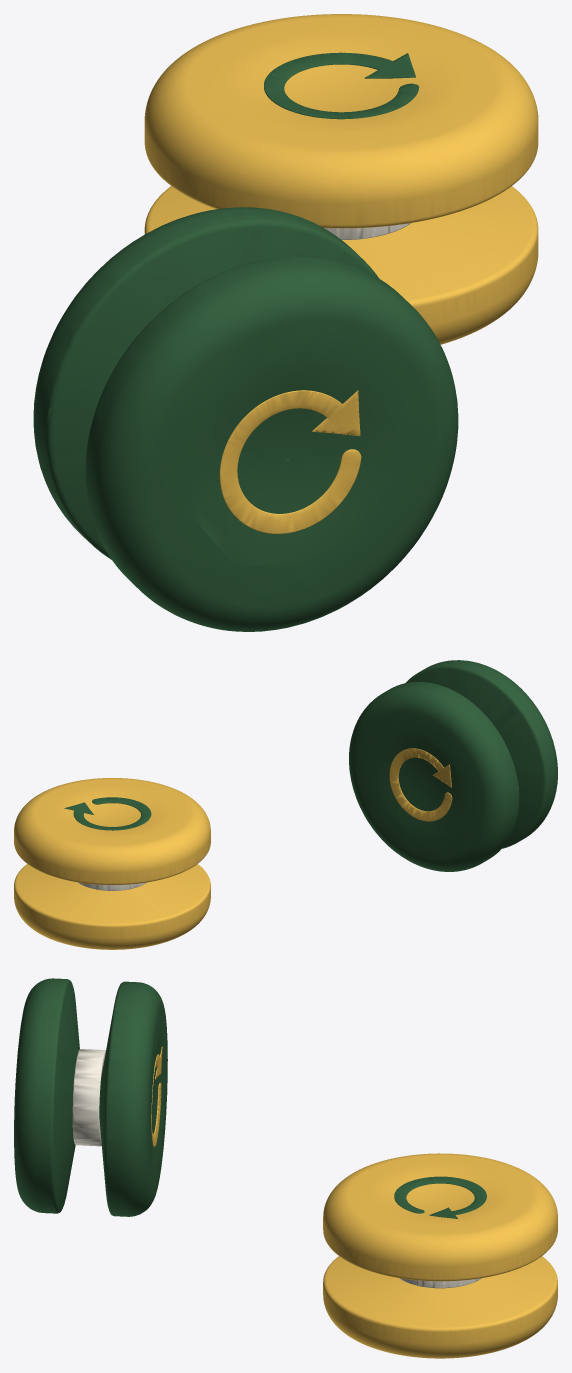
File: pull-to-refresh.glb
3 views of the same model, one above another, from view 1: azimuth 30°, elevation 25°; view 2: azimuth 150°, elevation 25°; view 3: azimuth 270°, elevation 25° (orthographic). The views are drawn at different scales.
Parts seen in each view (by area): view 1: yoyo-body, yoyo2-body, yoyo-icon0, yoyo2-icon0, yoyo-string; view 2: yoyo-body, yoyo2-body, yoyo-icon0, yoyo2-icon0; view 3: yoyo2-body, yoyo-body, yoyo-string, yoyo2-icon0, yoyo-icon0.
Boxes of the visible parts, x1,y1,x2,y2 form: yoyo-body: (33, 207, 458, 631); yoyo2-body: (144, 14, 538, 344); yoyo-icon0: (219, 390, 361, 533); yoyo2-icon0: (264, 52, 419, 119); yoyo-string: (324, 223, 410, 239); yoyo-body: (349, 660, 557, 871); yoyo2-body: (14, 778, 210, 949); yoyo-icon0: (389, 748, 452, 821); yoyo2-icon0: (64, 797, 151, 830); yoyo2-body: (323, 1153, 557, 1358); yoyo-body: (14, 978, 167, 1216); yoyo-string: (72, 1049, 481, 1288); yoyo2-icon0: (394, 1176, 486, 1218); yoyo-icon0: (151, 1047, 162, 1146).
Bounding box in the file's own units: 0.1208 × 0.056 × 0.1297.
